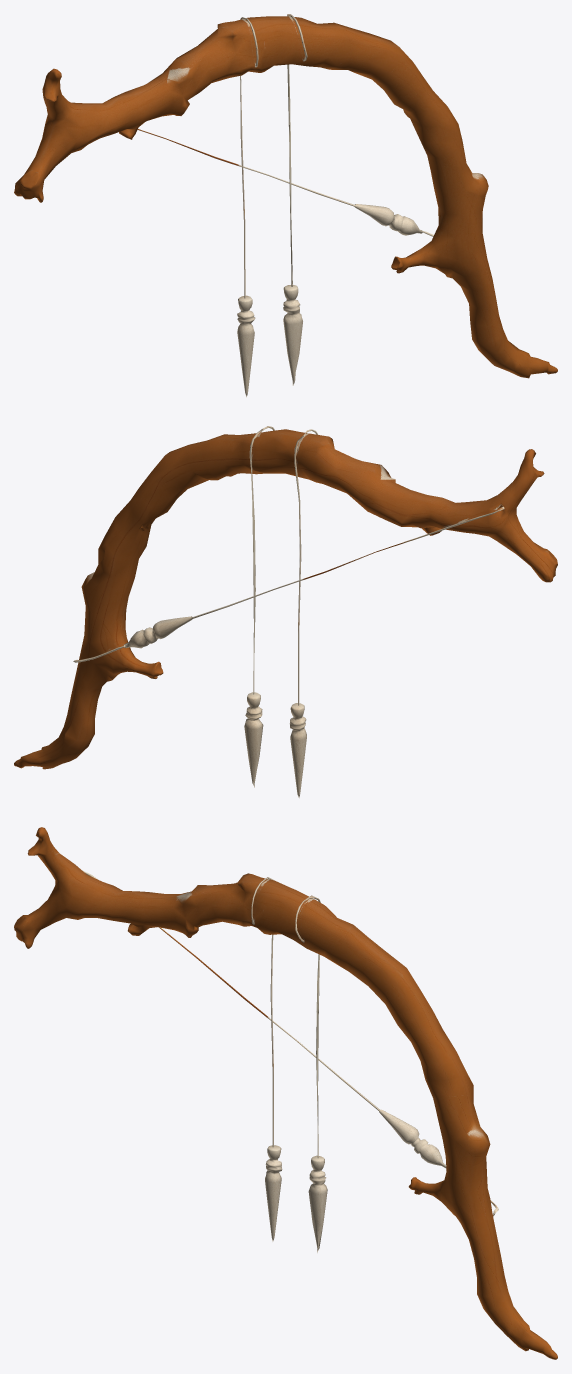
The model's file is oakspine_refine.glb.
The picture shows the model from 3 angles, top to bottom: view 1: azimuth 30°, elevation 25°; view 2: azimuth 150°, elevation 25°; view 3: azimuth 330°, elevation 25°; orthographic projection. The views are drawn at different scales.
Size of the model in its own units: 0.9565 by 0.7349 by 0.1191.
1 material, 1 textured.
